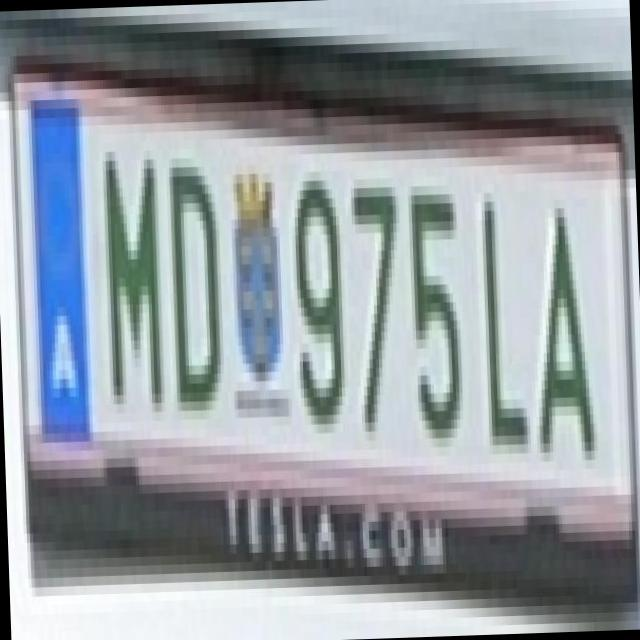5: (401, 175, 466, 430)
7: (340, 159, 406, 423)
9: (280, 161, 346, 416)
A: (518, 180, 597, 452)
D: (155, 138, 224, 402)
L: (464, 173, 530, 446)
M: (94, 122, 168, 414)
